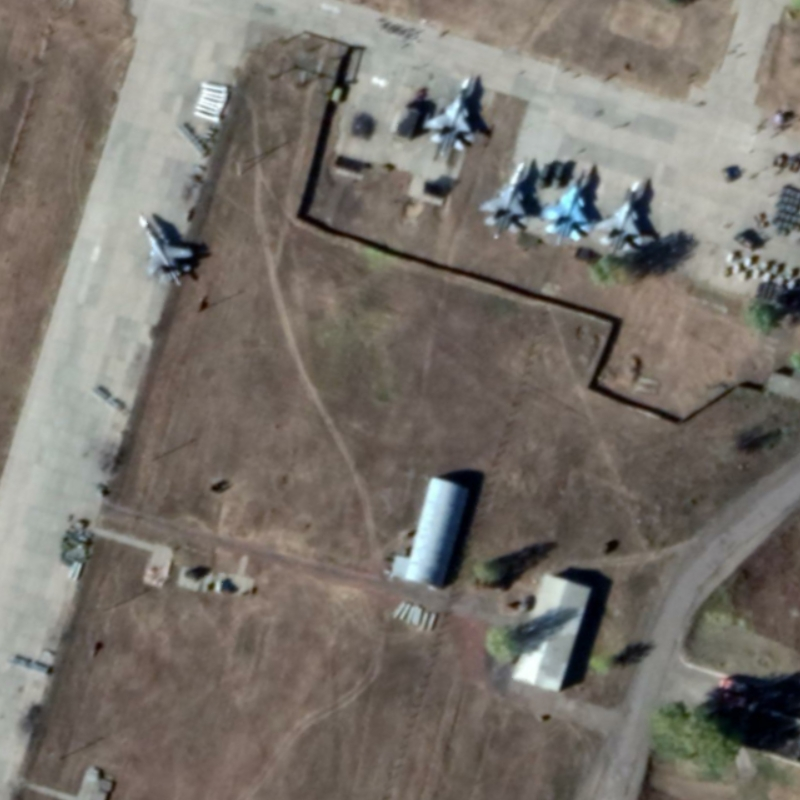A19: (419, 68, 481, 154), (595, 173, 654, 259), (135, 210, 198, 289), (473, 155, 530, 242), (537, 161, 595, 244)
